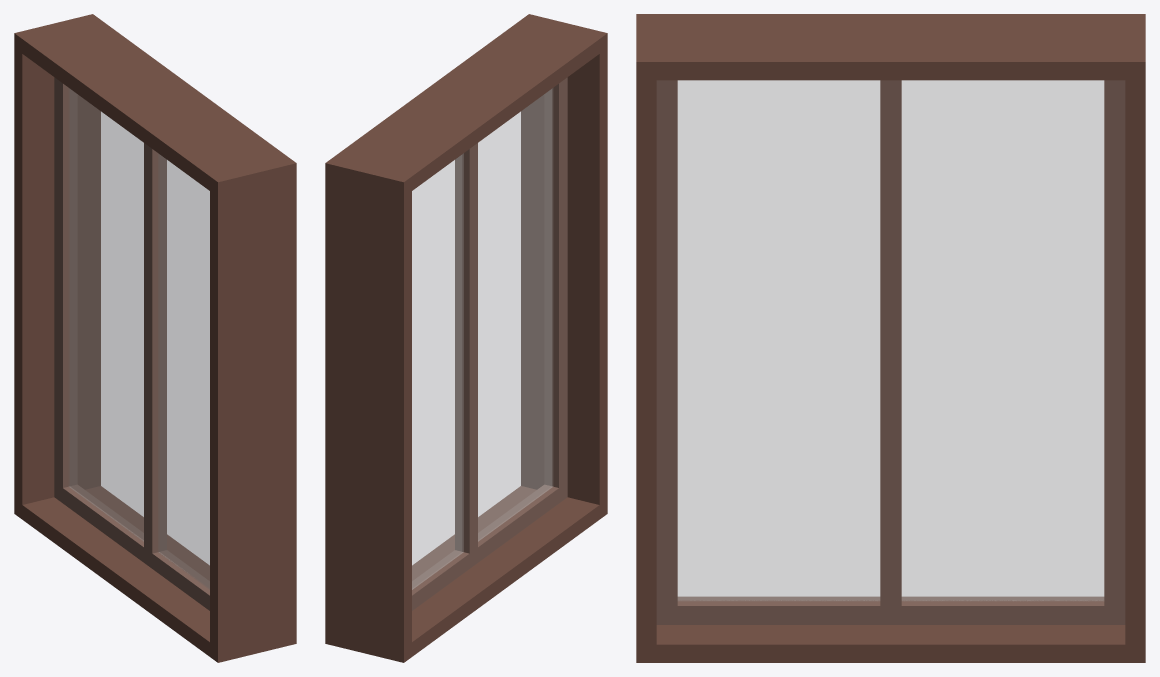
Rendered from Window02.fbx.
3 renders of one model, left to right at view 1: azimuth 30°, elevation 25°; view 2: azimuth 150°, elevation 25°; view 3: azimuth 270°, elevation 25°, orthographic. The views are drawn at different scales.
Visible parts, largest first — view 1: Wall04Window02; view 2: Wall04Window02; view 3: Wall04Window02.
Boxes of the visible parts, box(x1,y1,x2,y2) form: Wall04Window02: box(14, 14, 296, 662); Wall04Window02: box(325, 14, 607, 662); Wall04Window02: box(636, 14, 1145, 662).
Size of the model in its own units: 0.2672 by 1.2 by 1.56.
